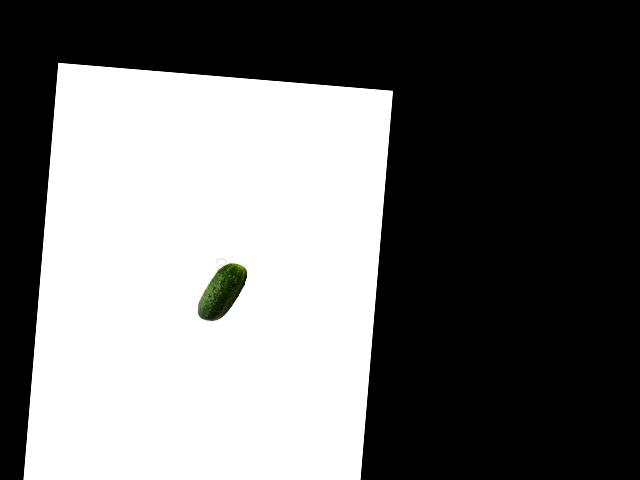cucumber: (196, 260, 247, 323)
